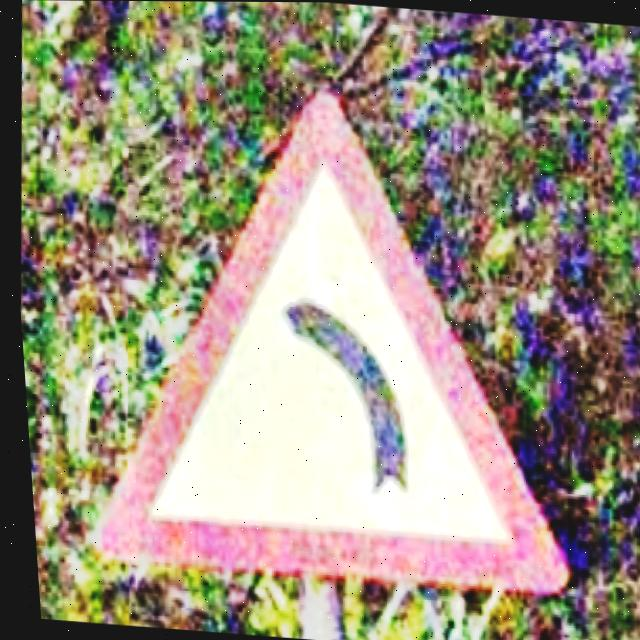leftbend: (91, 94, 567, 595)
